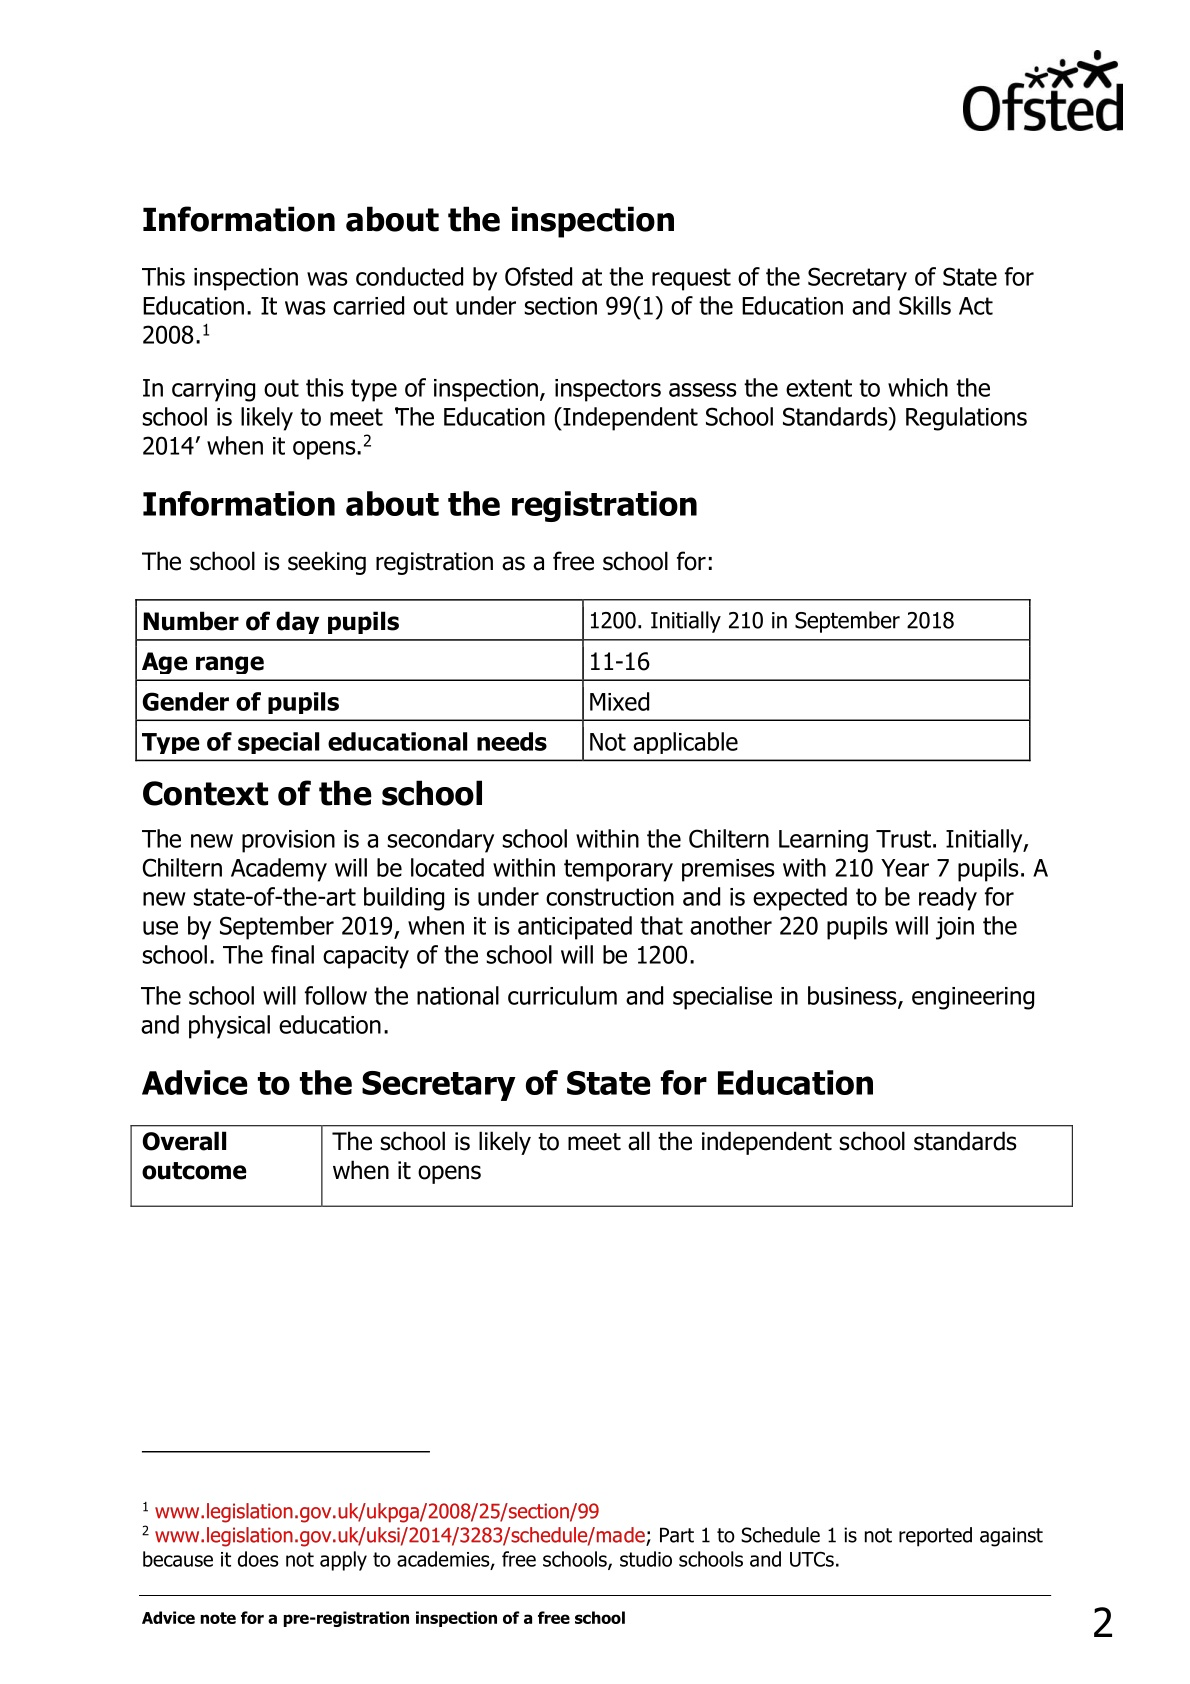full_lined: (135, 599, 1032, 762), (129, 1124, 1074, 1208)
